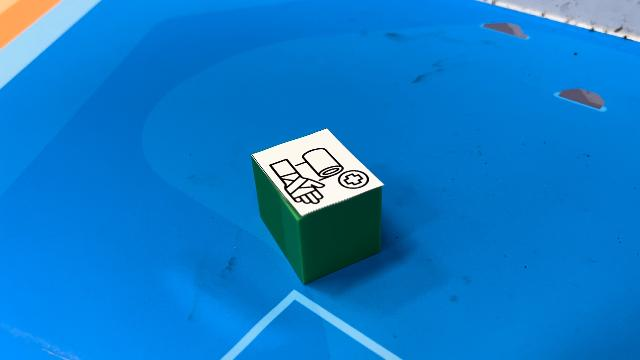bandage: (250, 126, 386, 284)
